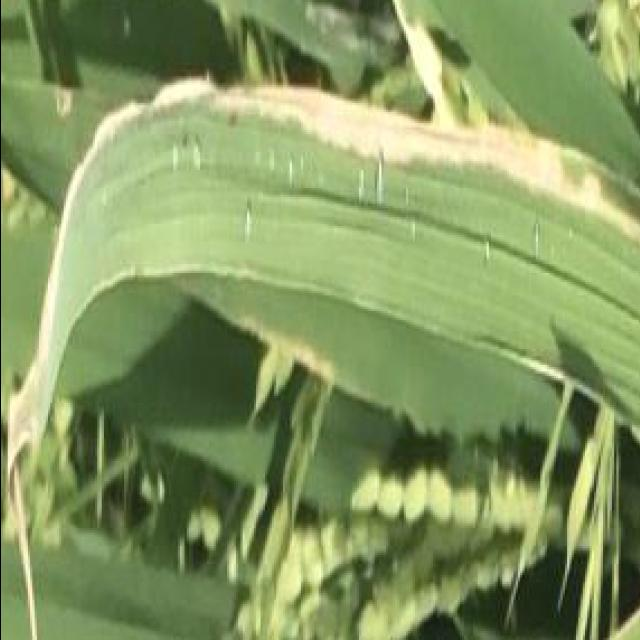Bacterial_Leaf_Blight: (74, 76, 558, 298)
